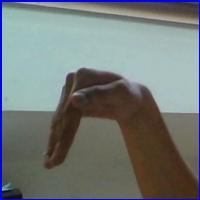A: (40, 66, 155, 175)
